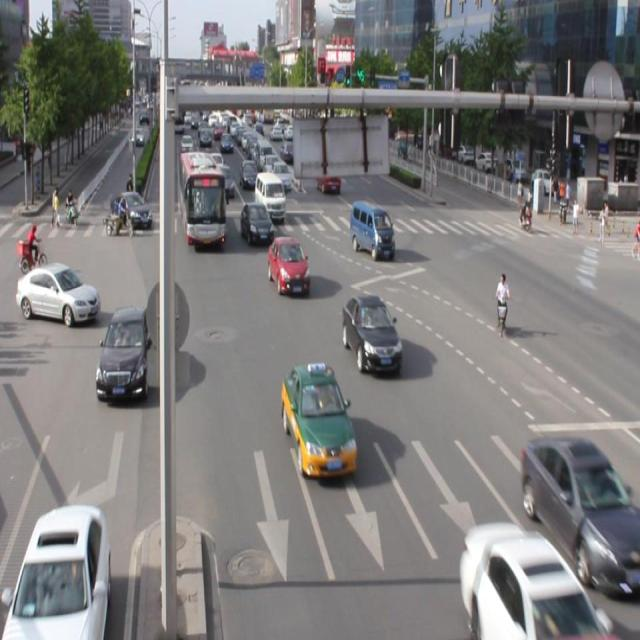car: (518, 432, 640, 593), (460, 519, 595, 640), (1, 505, 111, 640), (281, 362, 357, 477), (96, 306, 153, 405), (342, 296, 401, 374), (268, 236, 309, 295), (241, 203, 274, 249)
truck: (350, 200, 393, 260)
van: (178, 152, 226, 249)
